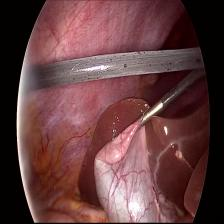Grasper: (134, 102, 161, 136)
